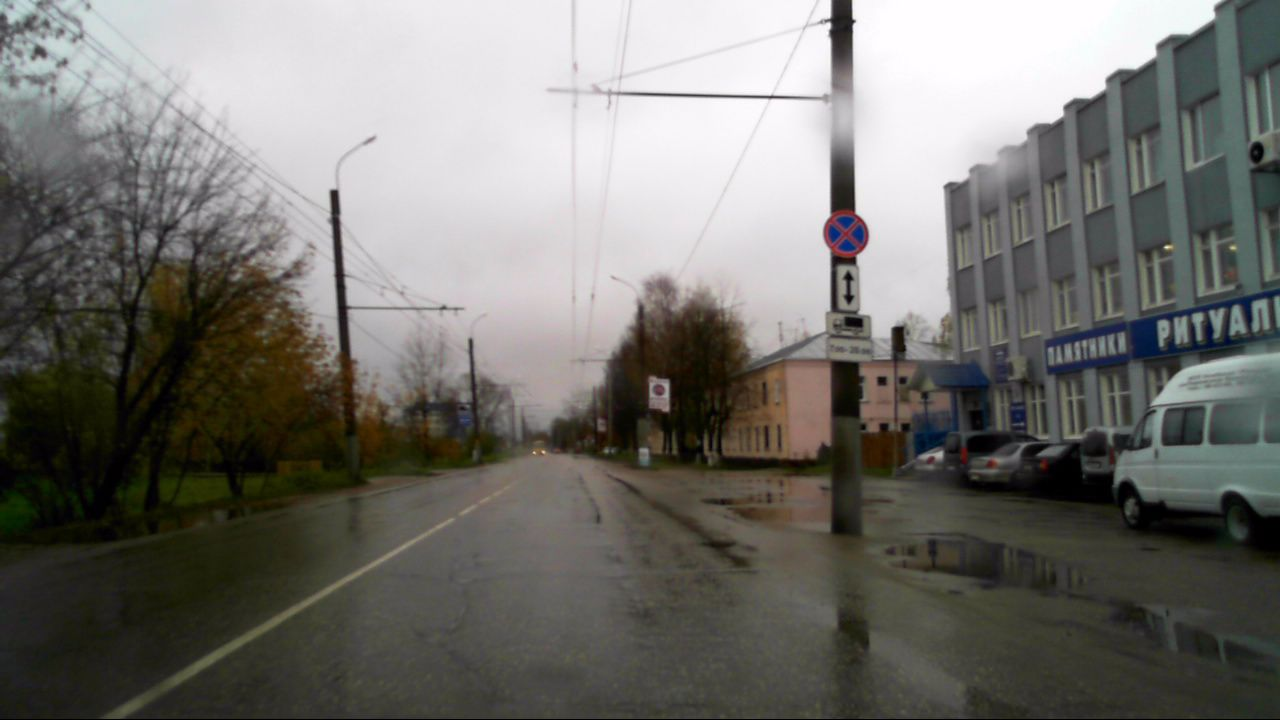No Parking: (822, 210, 869, 257)
